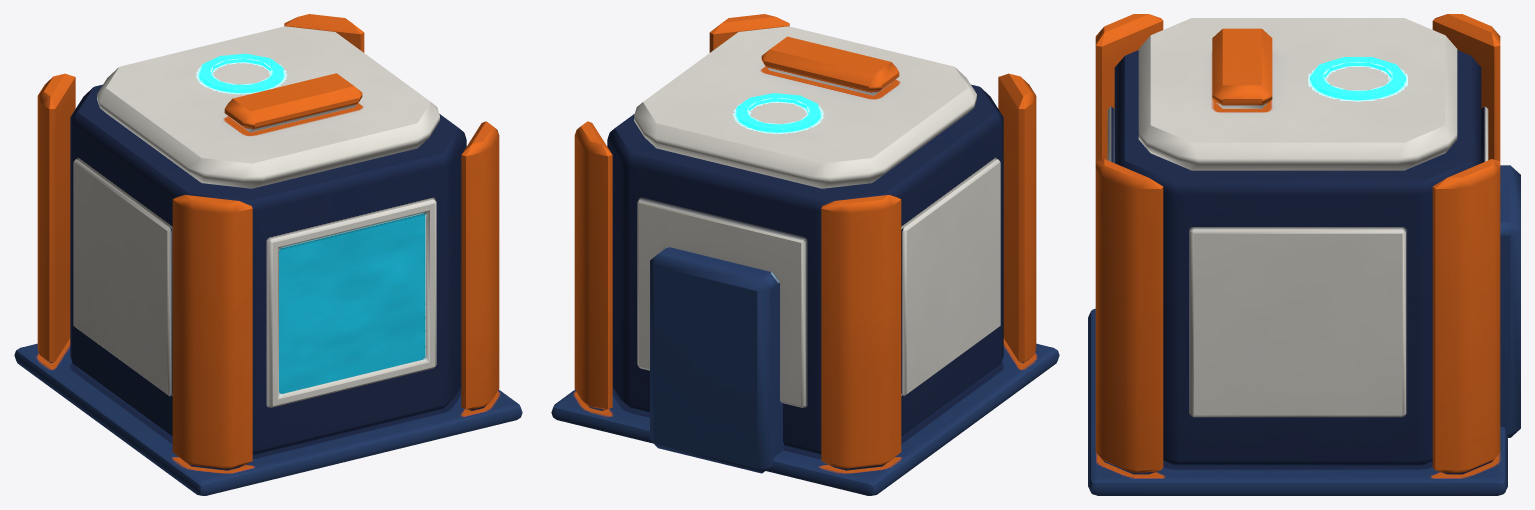
The model's file is R4X_Battery.fbx.
3 renders of one model, left to right at view 1: azimuth 30°, elevation 25°; view 2: azimuth 150°, elevation 25°; view 3: azimuth 270°, elevation 25°, orthographic. The views are drawn at different scales.
Parts seen in each view (by area): view 1: R4X_Battery_Body, R4X_Battery_Cap; view 2: R4X_Battery_Body, R4X_Battery_Cap; view 3: R4X_Battery_Body, R4X_Battery_Cap.
Boxes of the visible parts, x1,y1,x2,y2 form: R4X_Battery_Body: [14, 14, 522, 495]; R4X_Battery_Cap: [97, 26, 439, 188]; R4X_Battery_Body: [551, 14, 1059, 495]; R4X_Battery_Cap: [634, 26, 976, 188]; R4X_Battery_Body: [1088, 14, 1520, 495]; R4X_Battery_Cap: [1138, 18, 1457, 170].
Size of the model in its own units: 0.49 by 0.456 by 0.505.
